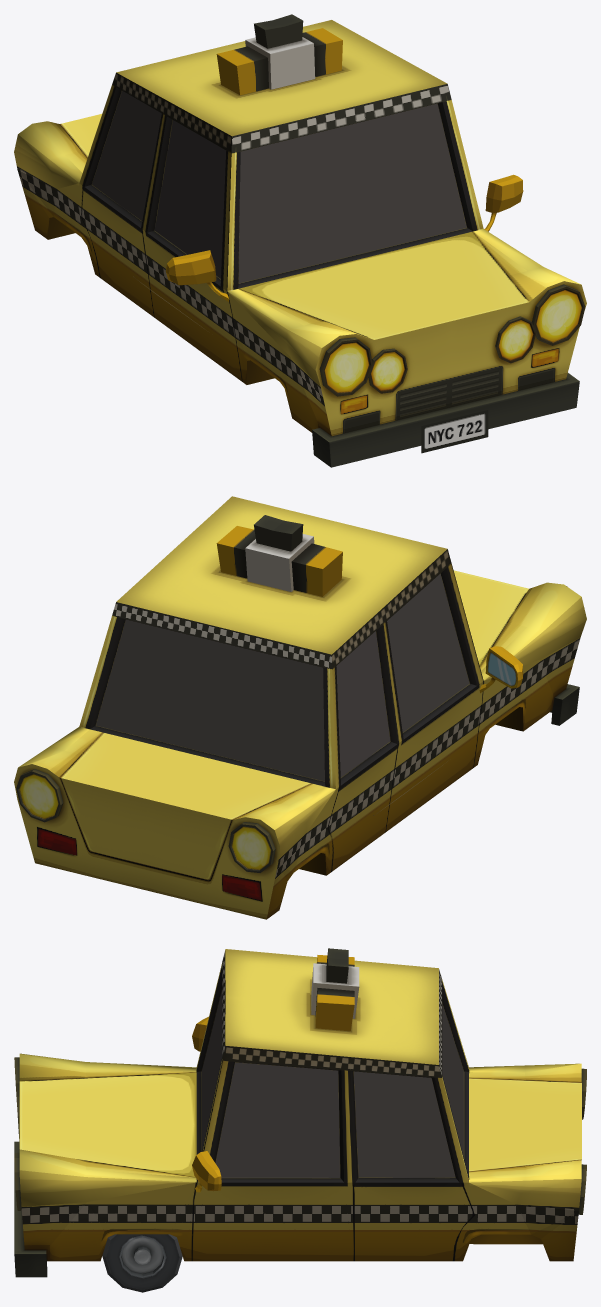
File: car_010.fbx
3 renders of one model, top to bottom at view 1: azimuth 30°, elevation 25°; view 2: azimuth 150°, elevation 25°; view 3: azimuth 270°, elevation 25°, orthographic. The views are drawn at different scales.
Parts seen in each view (by area): view 1: Car_010, Car_010_window; view 2: Car_010, Car_010_window; view 3: Car_010, Car_010_window, Car_010_Wheel.
Boxes of the visible parts, x1=… form: Car_010: x1=14, y1=14, x2=586, y2=467; Car_010_window: x1=92, y1=91, x2=466, y2=283; Car_010: x1=14, y1=496, x2=586, y2=919; Car_010_window: x1=96, y1=573, x2=469, y2=781; Car_010: x1=14, y1=948, x2=586, y2=1277; Car_010_window: x1=201, y1=990, x2=463, y2=1177; Car_010_Wheel: x1=102, y1=1234, x2=182, y2=1292.
Bounding box in the file's own units: 1023 × 856 × 1557.
